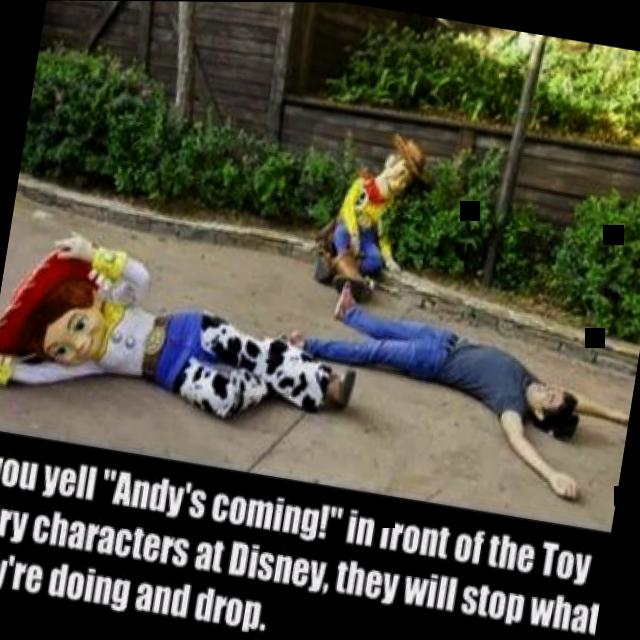Fall-Detected: (289, 113, 448, 309)
